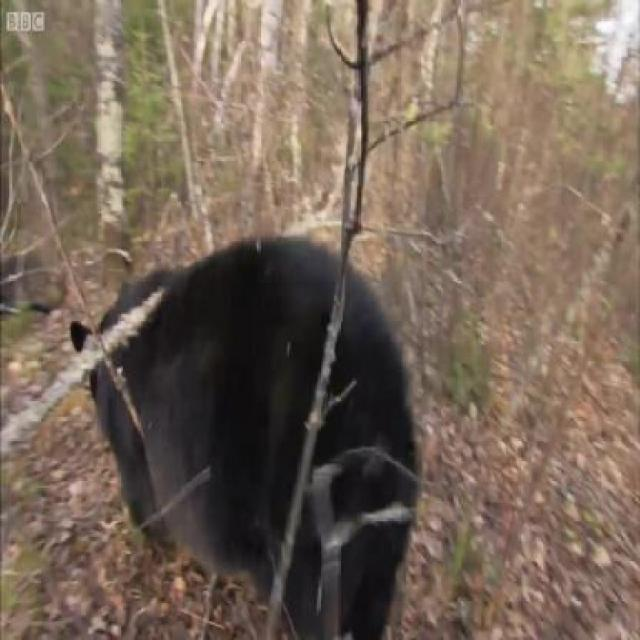Bear: (64, 228, 464, 640)
